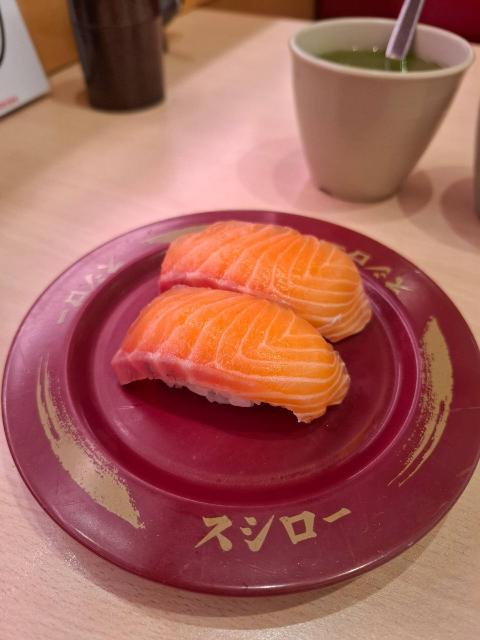janred: (20, 208, 448, 554)
